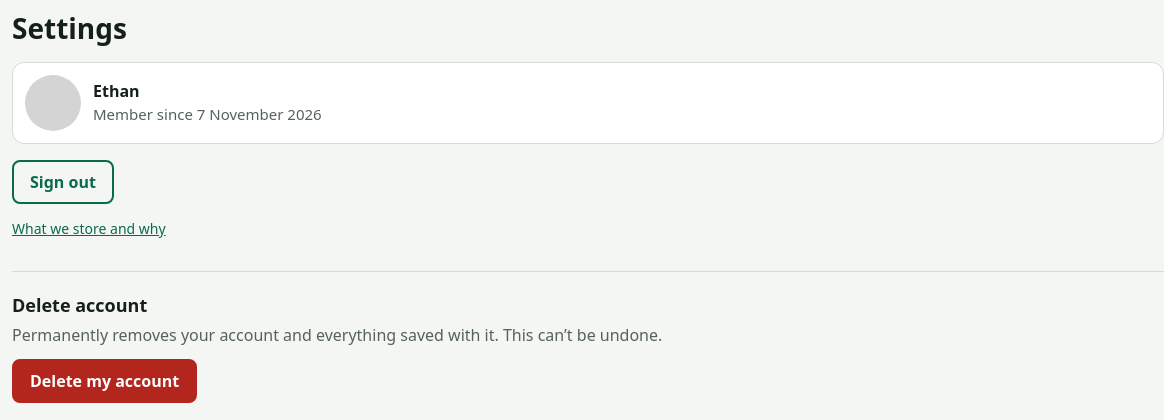
SettingsView signed in › asks for confirmation before deleting, and can be cancelled
This screenshot has width=1164, height=420.
Later steps or results of the test are not shown.
Check: the text "Ethan" is shown, box x1=93 y1=80 x2=140 y2=102
Click the button "Delete my account" at (105, 381), box x1=12 y1=359 x2=197 y2=403
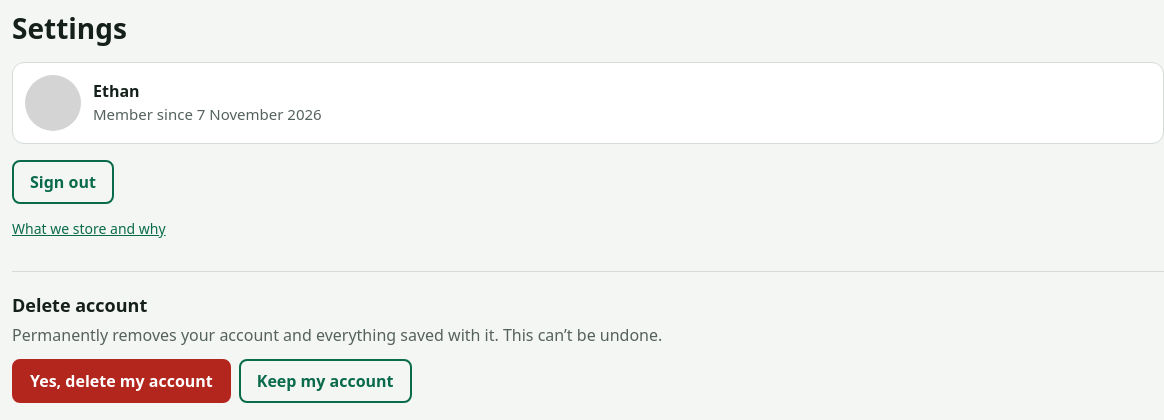
Check: the button "Yes, delete my account" is shown, box x1=12 y1=359 x2=231 y2=403
